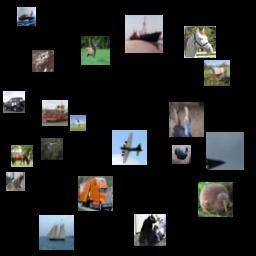airplane: (206, 132, 244, 170), (112, 130, 147, 165), (70, 115, 86, 131)
automobile: (3, 91, 25, 113)
bird: (169, 102, 204, 137), (198, 182, 233, 217), (41, 138, 63, 160), (172, 145, 191, 164)
cat: (134, 214, 166, 246)
deer: (81, 36, 110, 65)
frog: (32, 50, 54, 72), (6, 172, 25, 191)
ship: (125, 15, 163, 53), (39, 215, 74, 250), (17, 7, 36, 26)
truck: (78, 176, 113, 211), (42, 100, 68, 126)
